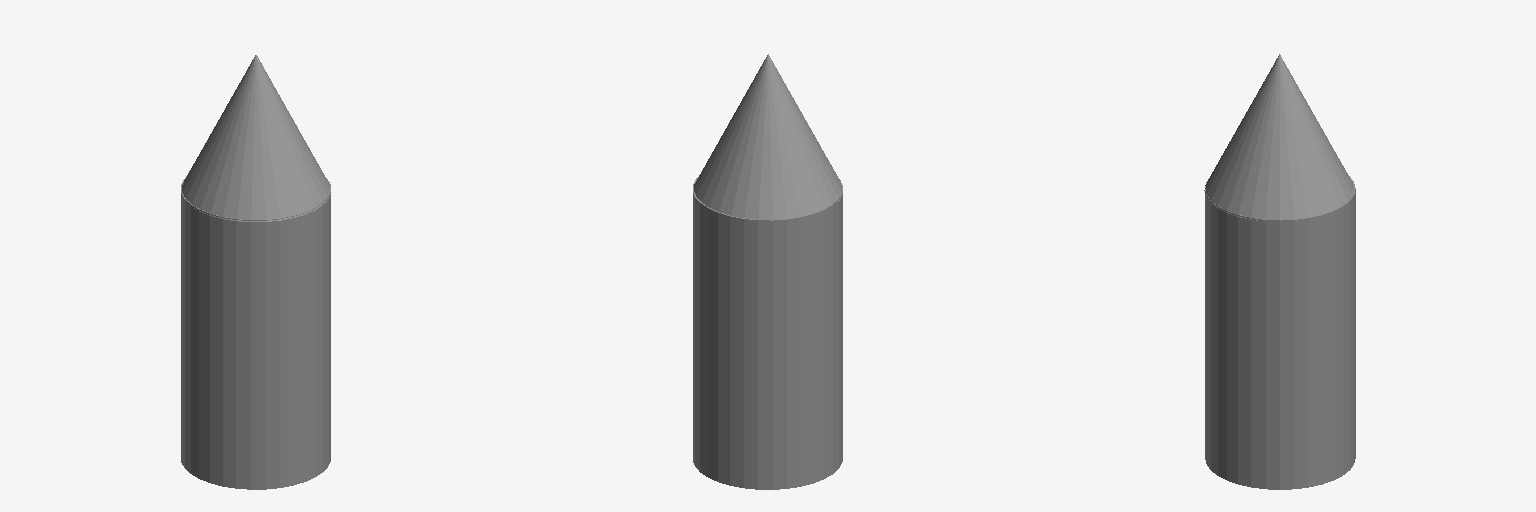
The model's file is arrow.obj.
The picture shows the model from 3 angles: view 1: azimuth 30°, elevation 25°; view 2: azimuth 150°, elevation 25°; view 3: azimuth 270°, elevation 25°; orthographic projection.
Parts seen in each view (by area): view 1: Cylinder, Cone; view 2: Cylinder, Cone; view 3: Cylinder, Cone.
Part boxes in pixels (x1,y1,x2,y2): Cylinder: (181,176,330,489); Cone: (182,55,330,221); Cylinder: (693,178,842,489); Cone: (694,54,842,219); Cylinder: (1205,176,1355,489); Cone: (1204,54,1353,221).
Bounding box in the file's own units: 2 × 5.92 × 2.01.